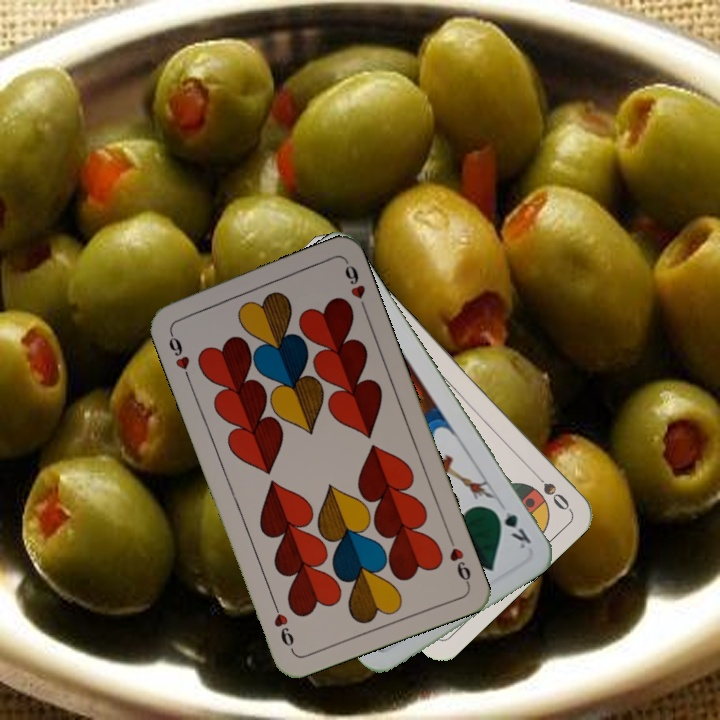GK: (488, 504, 534, 552)
H9: (443, 531, 474, 587), (164, 325, 193, 383)
SO: (526, 465, 573, 514)
